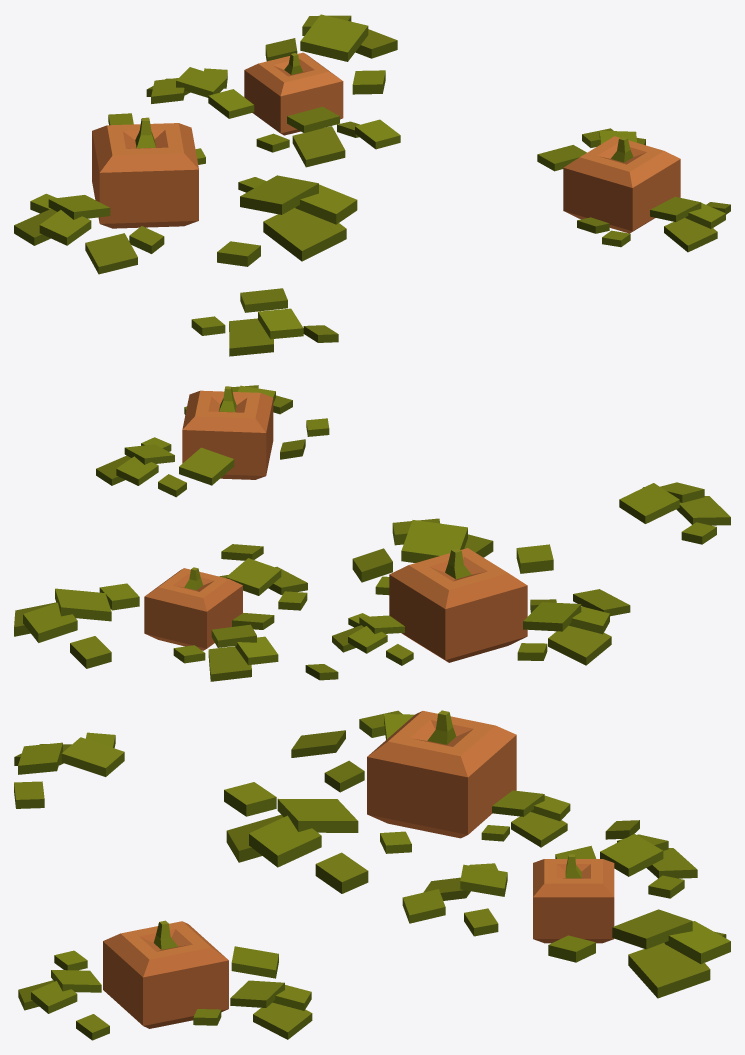
File: Crops_Pumpkin.gltf
3 views of the same model, one above another, from view 1: azimuth 30°, elevation 25°; view 2: azimuth 150°, elevation 25°; view 3: azimuth 270°, elevation 25° (orthographic). The views are drawn at different scales.
Parts seen in each view (by area): view 1: SF_Prop_Crops_Pumpkin_01; view 2: SF_Prop_Crops_Pumpkin_01; view 3: SF_Prop_Crops_Pumpkin_01.
Part boxes in pixels (box(x1,y1,x2,y2)): SF_Prop_Crops_Pumpkin_01: box(14, 14, 730, 356); SF_Prop_Crops_Pumpkin_01: box(14, 385, 730, 681); SF_Prop_Crops_Pumpkin_01: box(14, 710, 730, 1040).
Size of the model in its own units: 0.0951 by 0.0151 by 0.0931.
Materials: 1 (1 with a texture image).
